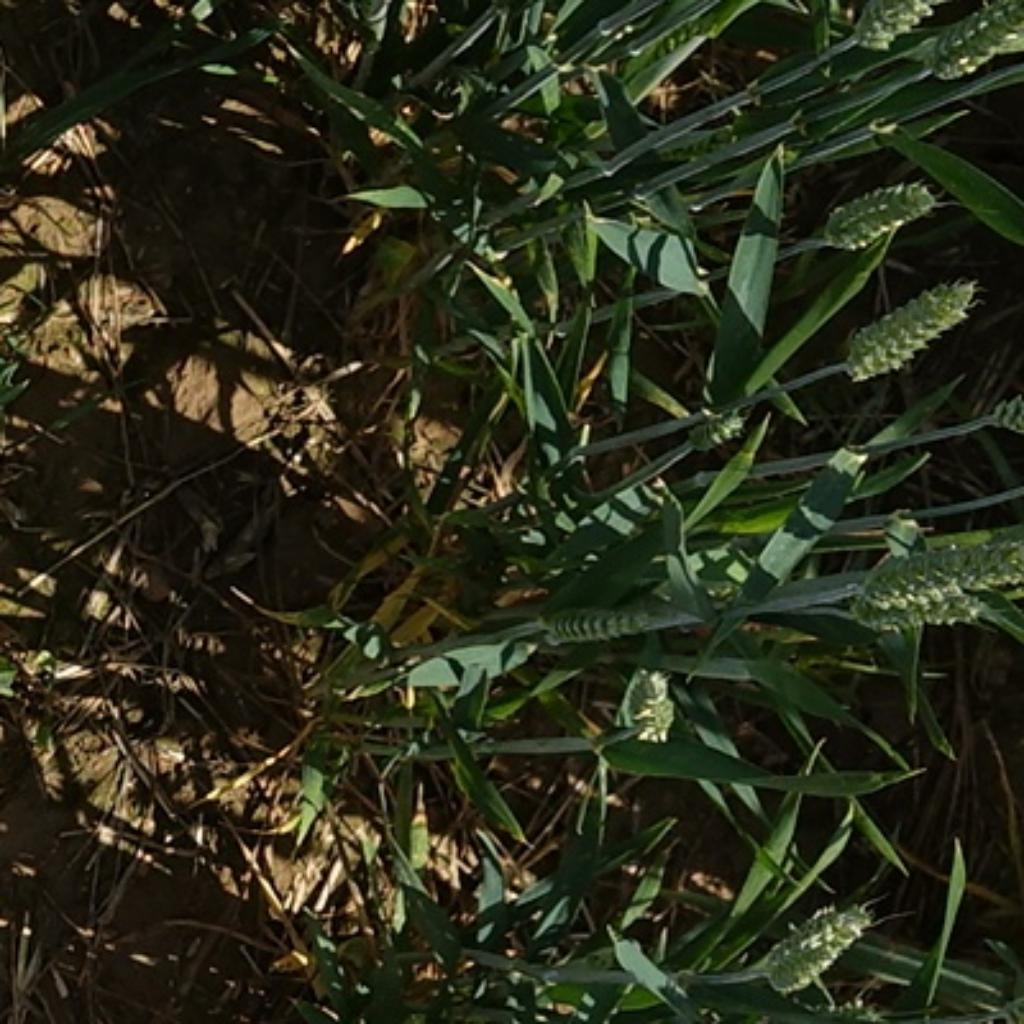0-0: (826, 269, 985, 390), (752, 879, 890, 1002), (816, 169, 944, 258), (863, 533, 1023, 603), (923, 2, 1024, 82), (851, 583, 990, 639), (529, 600, 692, 646), (846, 0, 939, 61), (616, 668, 685, 747), (684, 398, 758, 465)
